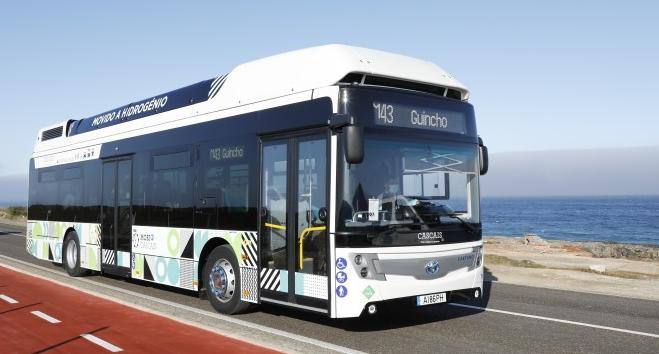vehicle: (27, 44, 488, 318)
